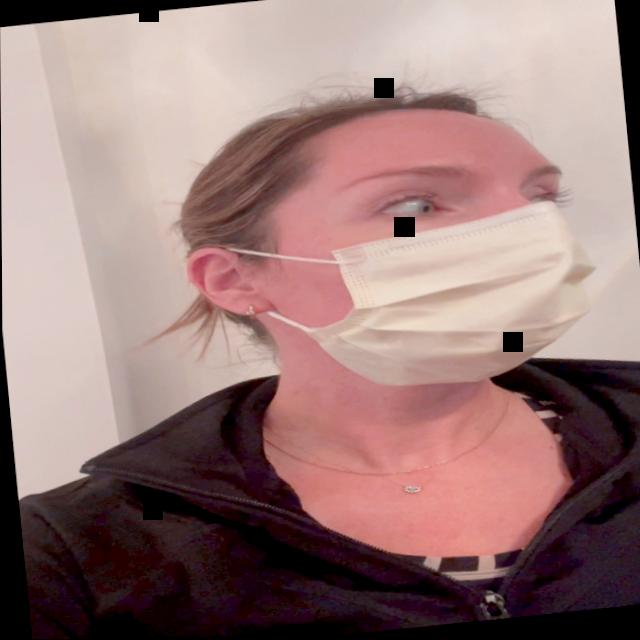Mask: (153, 76, 623, 440)
